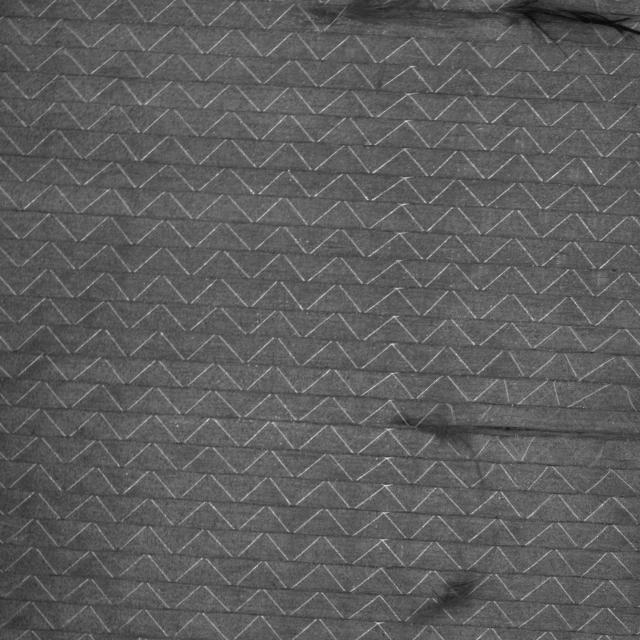carbon-fibre-defect: (314, 0, 636, 49), (394, 403, 640, 463), (391, 566, 503, 626)
